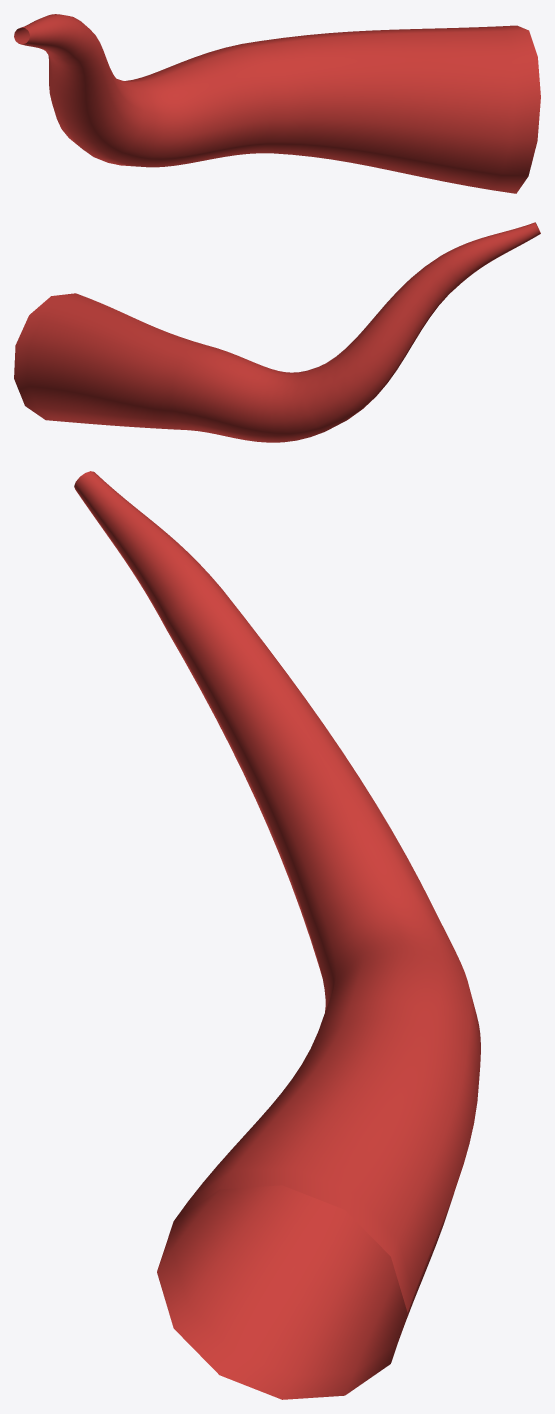
3 views of the same model, one above another, from view 1: azimuth 30°, elevation 25°; view 2: azimuth 150°, elevation 25°; view 3: azimuth 270°, elevation 25° (orthographic). The views are drawn at different scales.
Parts seen in each view (by area): view 1: 右侧肾动脉前支; view 2: 右侧肾动脉前支; view 3: 右侧肾动脉前支.
Part boxes in pixels (<box>): 右侧肾动脉前支: <box>14,14,540,193</box>; 右侧肾动脉前支: <box>14,222,540,442</box>; 右侧肾动脉前支: <box>74,471,480,1399</box>.
Bounding box in the file's own units: 0.0352 × 0.0195 × 0.0138.
